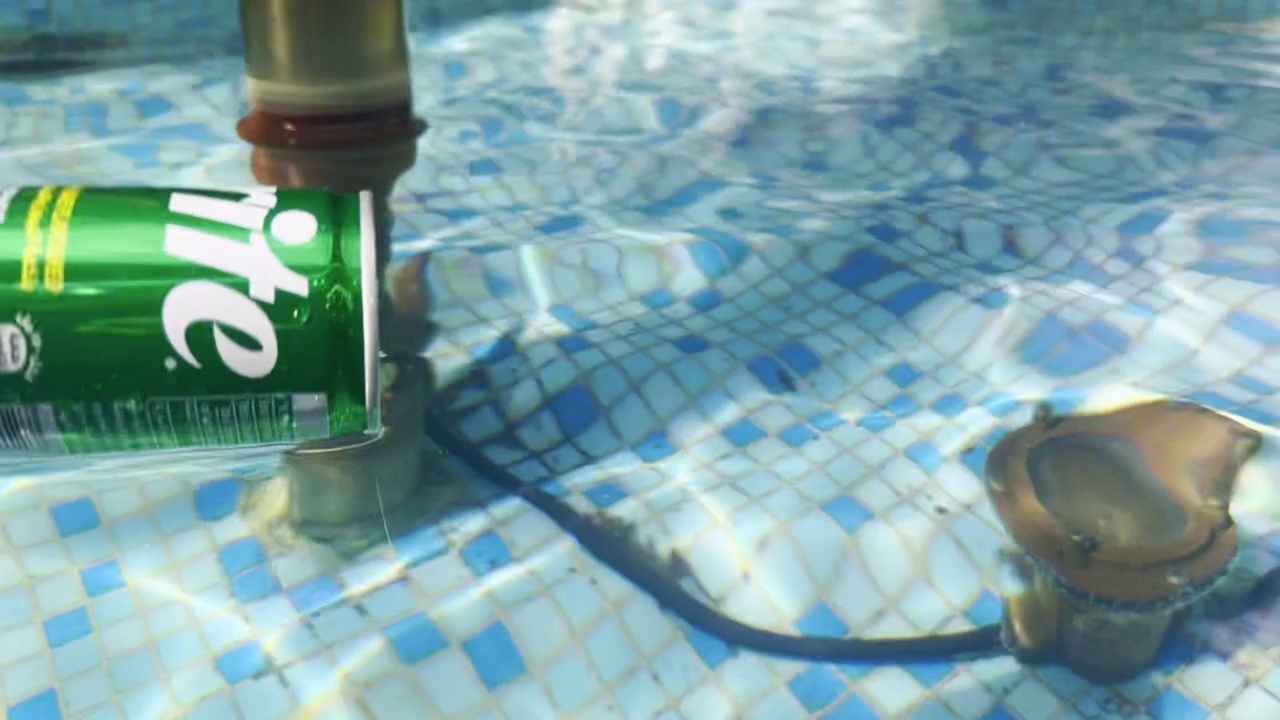debris: (0, 172, 391, 471)
